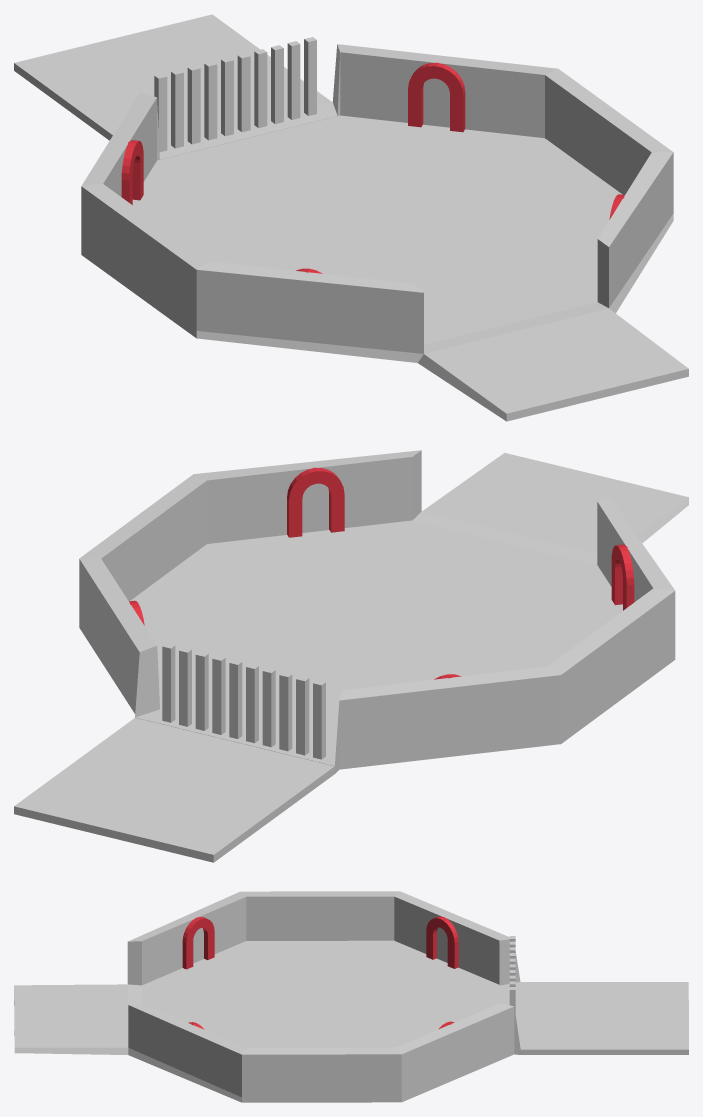
The model's file is level design 1.fbx.
3 renders of one model, top to bottom at view 1: azimuth 30°, elevation 25°; view 2: azimuth 150°, elevation 25°; view 3: azimuth 270°, elevation 25°, orthographic. The views are drawn at different scales.
Visible parts, largest first — view 1: Cylinder, Cube, Cube.002, Cube.001; view 2: Cylinder, Cube, Cube.001, Cube.002; view 3: Cylinder, Cube.001, Cube.002, Cube.
Part boxes in pixels (box(x1,y1,x2,y2)): Cylinder: box(14, 14, 688, 421); Cube: box(154, 37, 316, 152); Cube.002: box(296, 62, 465, 273); Cube.001: box(121, 140, 624, 219); Cylinder: box(14, 450, 688, 862); Cube: box(162, 643, 325, 759); Cube.001: box(287, 467, 461, 679); Cube.002: box(129, 544, 634, 625); Cylinder: box(14, 891, 688, 1102); Cube.001: box(188, 916, 458, 1029); Cube.002: box(182, 917, 454, 1028); Cube: box(509, 936, 515, 1013).
Size of the model in its own units: 1687 by 290 by 2946.
